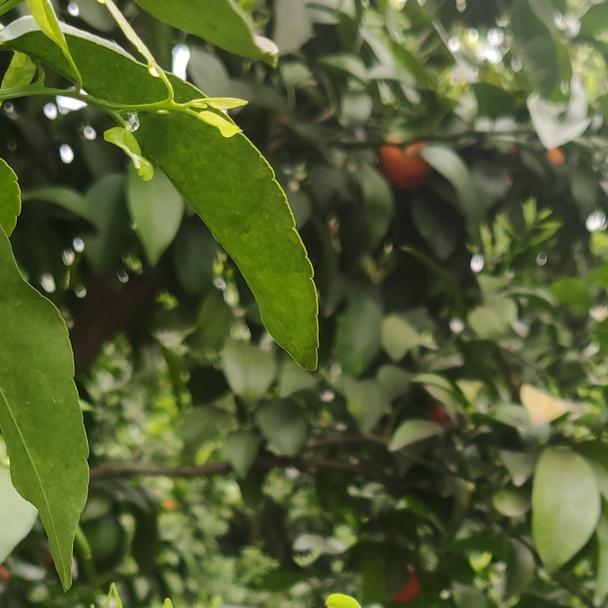shoot: (31, 1, 241, 155)
